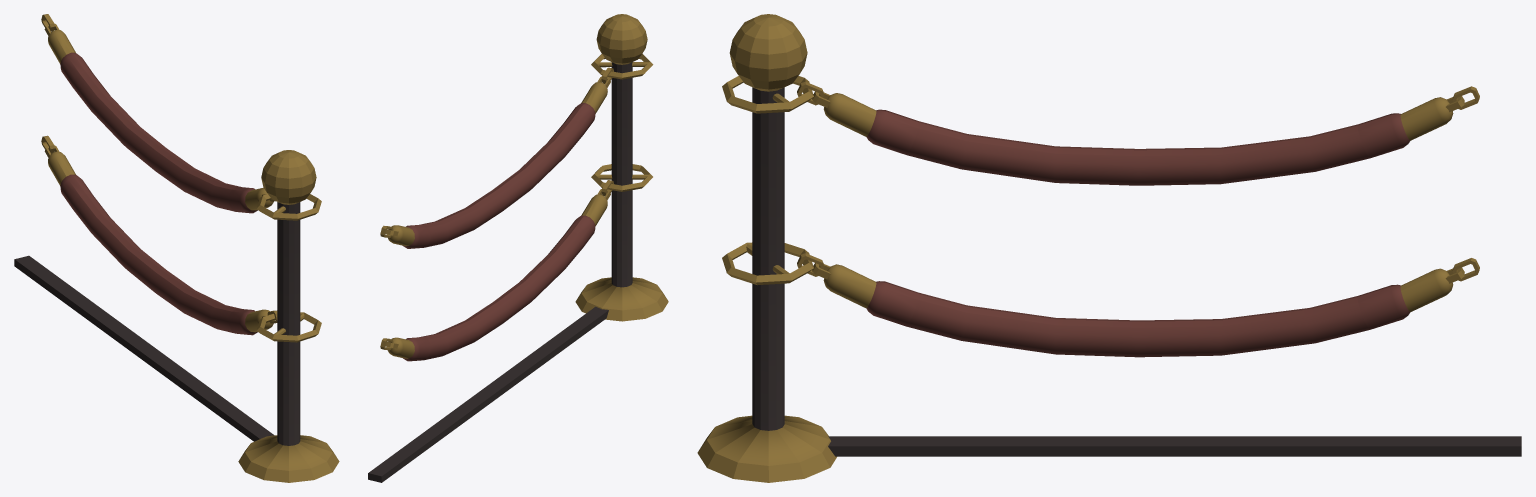
Rendered from DoubleStanchion_Both.fbx.
The picture shows the model from 3 angles, left to right: view 1: azimuth 30°, elevation 25°; view 2: azimuth 150°, elevation 25°; view 3: azimuth 270°, elevation 25°; orthographic projection. The views are drawn at different scales.
Visible parts, largest first — view 1: polySurface170; view 2: polySurface170; view 3: polySurface170.
Boxes of the visible parts, box(x1,y1,x2,y2) form: polySurface170: box(14, 14, 339, 482); polySurface170: box(368, 14, 668, 482); polySurface170: box(697, 14, 1521, 482).
Size of the model in its own units: 22.04 by 74.29 by 127.
